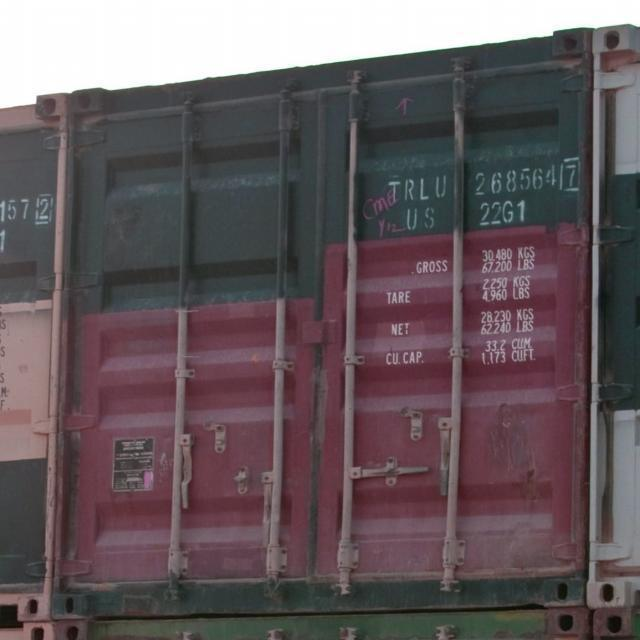ISO: (482, 203, 530, 227)
container_number: (388, 163, 582, 200)
